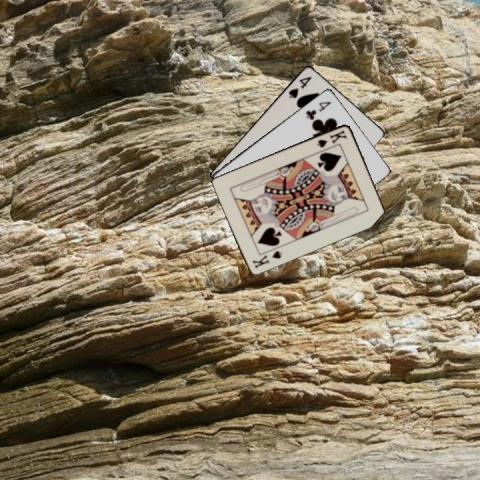4c: (302, 98, 332, 121)
4s: (286, 74, 314, 100)
Ks: (314, 126, 349, 148), (249, 248, 284, 270)
